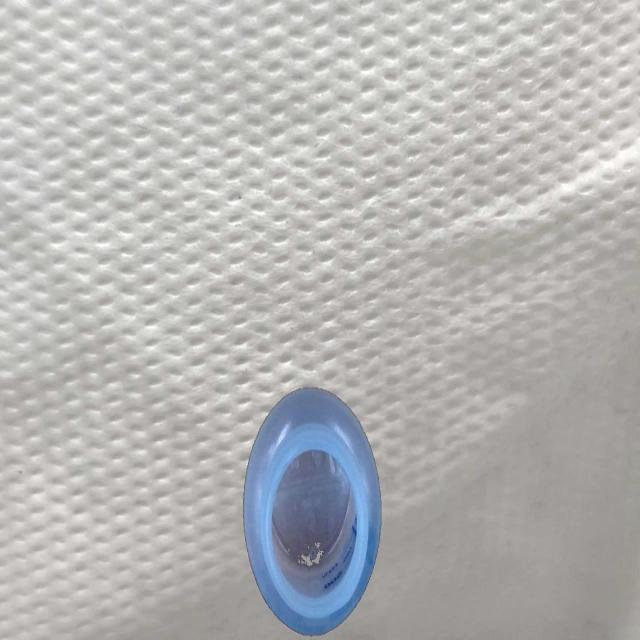bottle: (242, 385, 382, 637)
